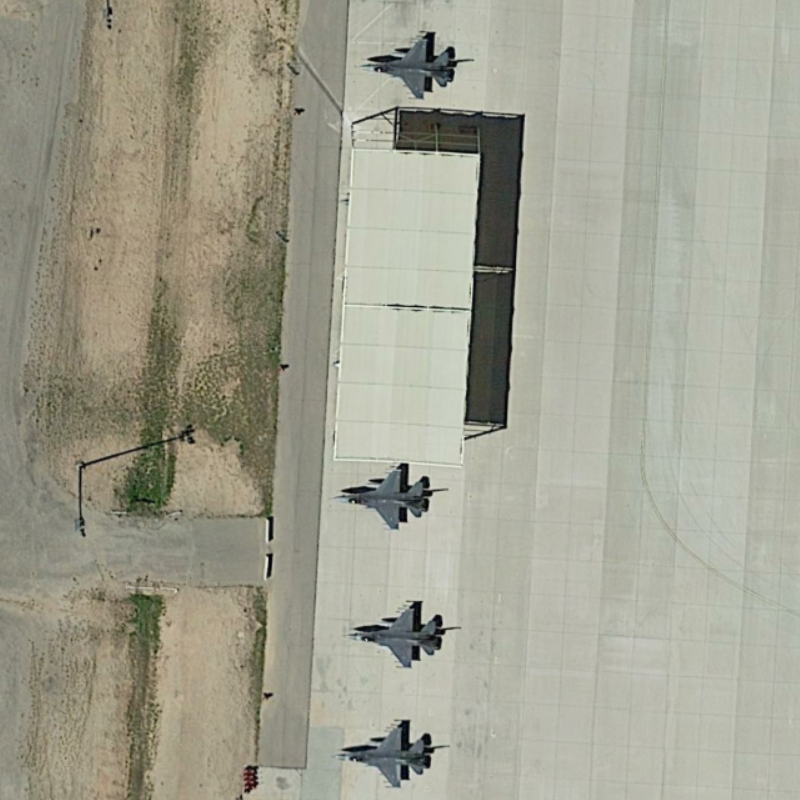A5: (322, 716, 443, 794), (329, 456, 446, 531), (353, 29, 470, 100), (348, 598, 449, 674)
